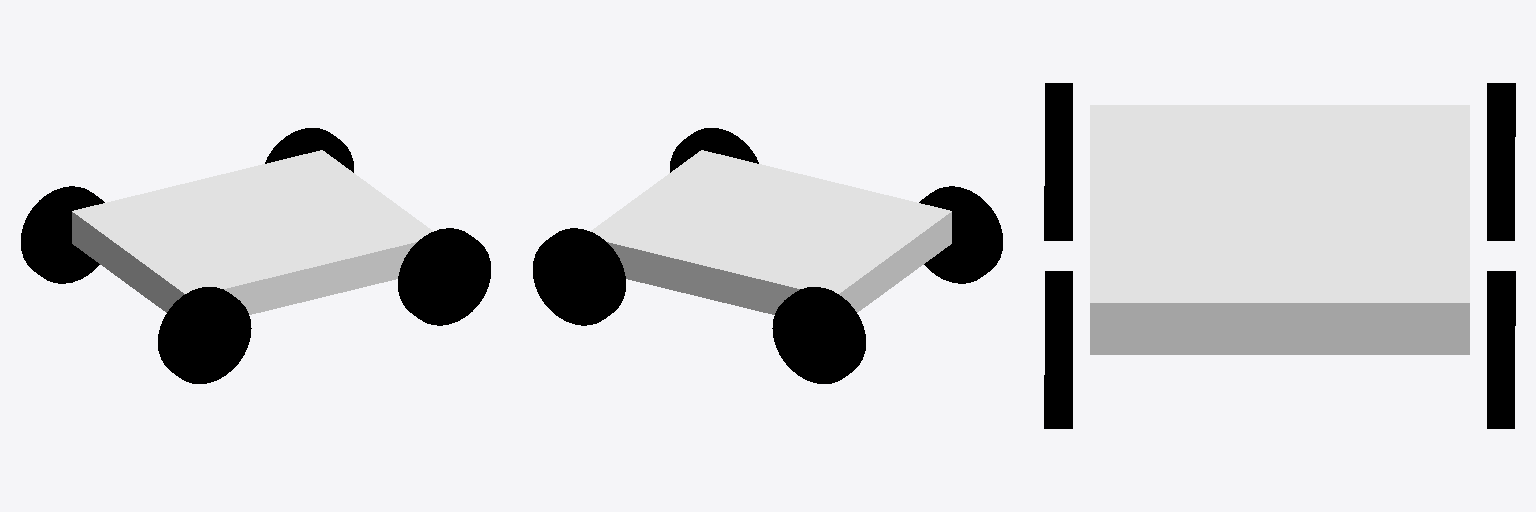
robot.urdf — diode_robot:
<?xml version="1.0" ?>
<robot name="diode_robot">

    <link name="base_link">
        <visual>
            <origin xyz=" 0 0 0.15" rpy="0 0 0" />
            <geometry>
                <box size="0.65 0.53 0.08"/>
            </geometry>
            <material name="white">
                <color rgba="1 1 1 1"/>
            </material>
        </visual>
    </link>   

    <joint name="left_wheel_joint" type="continuous">
        <origin xyz="-0.311 0.308 0.11" rpy="1.57 0 0"/>
        <parent link="base_link"/>
        <child link="left_wheel_link"/>
        <axis xyz="0 1 0"/>
    </joint>

    <link name="left_wheel_link">
        <visual>
            <origin xyz="0 0 0" rpy="0 0 0" />
            <geometry>
                <cylinder radius="0.11" length = "0.04"/>
            </geometry>
            <material name="black">
                <color rgba="0 0 0 1"/>
            </material>
        </visual>
    </link>

    <joint name="right_wheel_joint" type="continuous">
        <origin xyz="-0.311 -0.308 0.11" rpy="1.57 0 0"/>
        <parent link="base_link"/>
        <child link="right_wheel_link"/>
        <axis xyz="0 1 0"/>
    </joint>

    <link name="right_wheel_link">
        <visual>
            <origin xyz="0 0 0" rpy="0 0 0" />
            <geometry>
                <cylinder radius="0.11" length = "0.04"/>
            </geometry>
            <material name="black">
                <color rgba="0 0 0 1"/>
            </material>
        </visual>
    </link>

      <joint name="left_front_joint" type="continuous">
        <origin xyz="0.311 0.308 0.11" rpy="1.57 0 0"/>
        <parent link="base_link"/>
        <child link="left_front_link"/>
        <axis xyz="0 1 0"/>
    </joint>

    <link name="left_front_link">
        <visual>
            <origin xyz="0 0 0" rpy="0 0 0" />
            <geometry>
                <cylinder radius="0.11" length = "0.04"/>
            </geometry>
            <material name="black">
                <color rgba="0 0 0 1"/>
            </material>
        </visual>
    </link>

    <joint name="right_front_joint" type="continuous">
        <origin xyz="0.311 -0.308 0.11" rpy="1.57 0 0"/>
        <parent link="base_link"/>
        <child link="right_front_link"/>
        <axis xyz="0 1 0"/>
    </joint>

    <link name="right_front_link">
        <visual>
            <origin xyz="0 0 0" rpy="0 0 0" />
            <geometry>
                <cylinder radius="0.11" length = "0.04"/>
            </geometry>
            <material name="black">
                <color rgba="0 0 0 1"/>
            </material>
        </visual>
    </link>


</robot>

--- Render facts (derived) ---
3 views of the same robot in one strip: view 1: azimuth 30°, elevation 25°; view 2: azimuth 150°, elevation 25°; view 3: azimuth 270°, elevation 25° (orthographic).
Model diode_robot with 5 links and 4 joints (4 continuous), rooted at base_link, posed all joints at 0.
Visible links, largest first — view 1: base_link, right_wheel_link, right_front_link, left_wheel_link, left_front_link; view 2: base_link, left_wheel_link, left_front_link, right_wheel_link, right_front_link; view 3: base_link, right_wheel_link, left_front_link, left_wheel_link, right_front_link.
Link boxes in pixels (x1,y1,x2,y2): base_link: (72, 150, 433, 314); right_wheel_link: (158, 287, 251, 383); right_front_link: (398, 228, 490, 325); left_wheel_link: (21, 186, 104, 283); left_front_link: (265, 128, 353, 172); base_link: (590, 150, 951, 314); left_wheel_link: (772, 287, 865, 383); left_front_link: (533, 228, 625, 325); right_wheel_link: (919, 186, 1002, 283); right_front_link: (670, 128, 758, 172); base_link: (1090, 105, 1469, 354); right_wheel_link: (1044, 83, 1072, 240); left_front_link: (1487, 271, 1515, 428); left_wheel_link: (1487, 83, 1515, 240); right_front_link: (1044, 271, 1072, 428).
Bounding box of the posed robot: 0.842 × 0.6562 × 0.22 m (x, y, z).
Geometry: primitives only (box / cylinder / sphere), no mesh files.